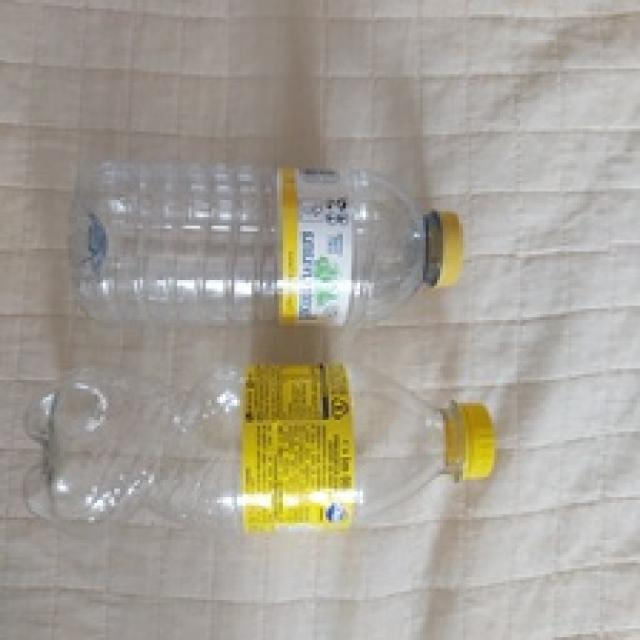plastic: (24, 353, 503, 548), (61, 158, 475, 338)
